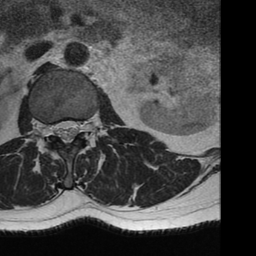CCS_normal: (62, 111, 70, 152)
LFS_normal: (79, 112, 89, 139)
LLS_normal: (70, 112, 80, 146)
RFS_normal: (44, 112, 52, 143)
RLS_normal: (52, 111, 62, 146)
